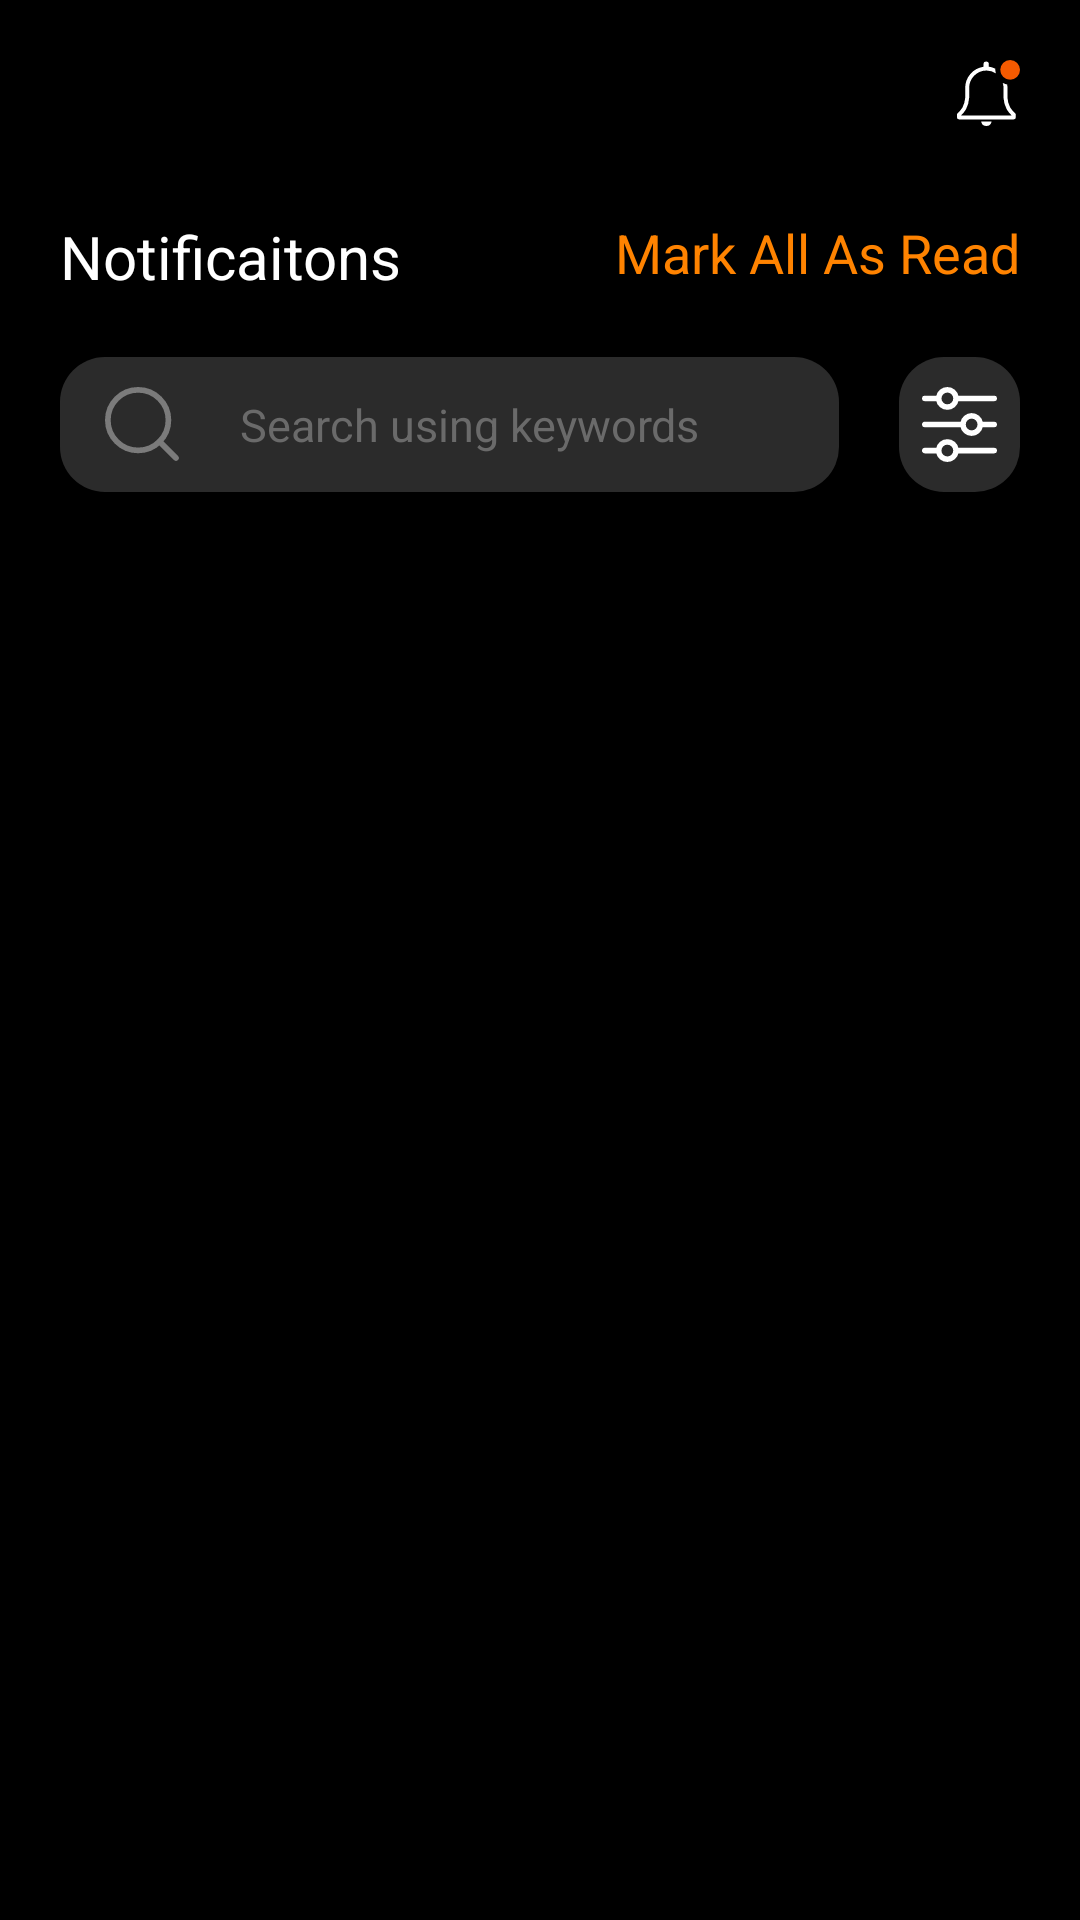

Named icons in this screenshot (1080px×1920px) and their centers, point (x, y):
filter: point (959, 424)
notifications: point (988, 93)
